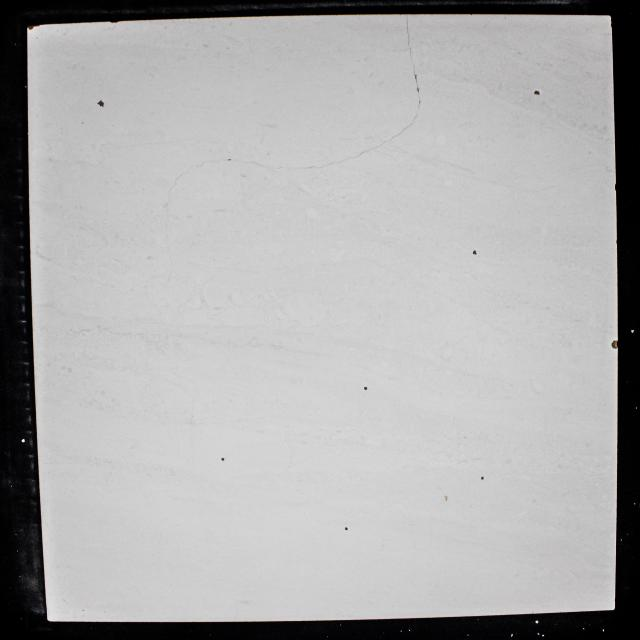edge-chipping: (27, 24, 40, 31), (611, 340, 618, 349), (110, 20, 119, 23), (614, 184, 616, 192), (616, 239, 618, 245)
hole: (96, 99, 105, 109), (534, 90, 540, 95), (472, 250, 477, 255), (363, 386, 368, 391), (344, 527, 349, 531), (221, 457, 225, 461), (480, 476, 484, 480)
line: (356, 104, 419, 158), (169, 160, 227, 191), (232, 158, 354, 170), (164, 192, 172, 286), (406, 17, 416, 74), (415, 74, 420, 102)
